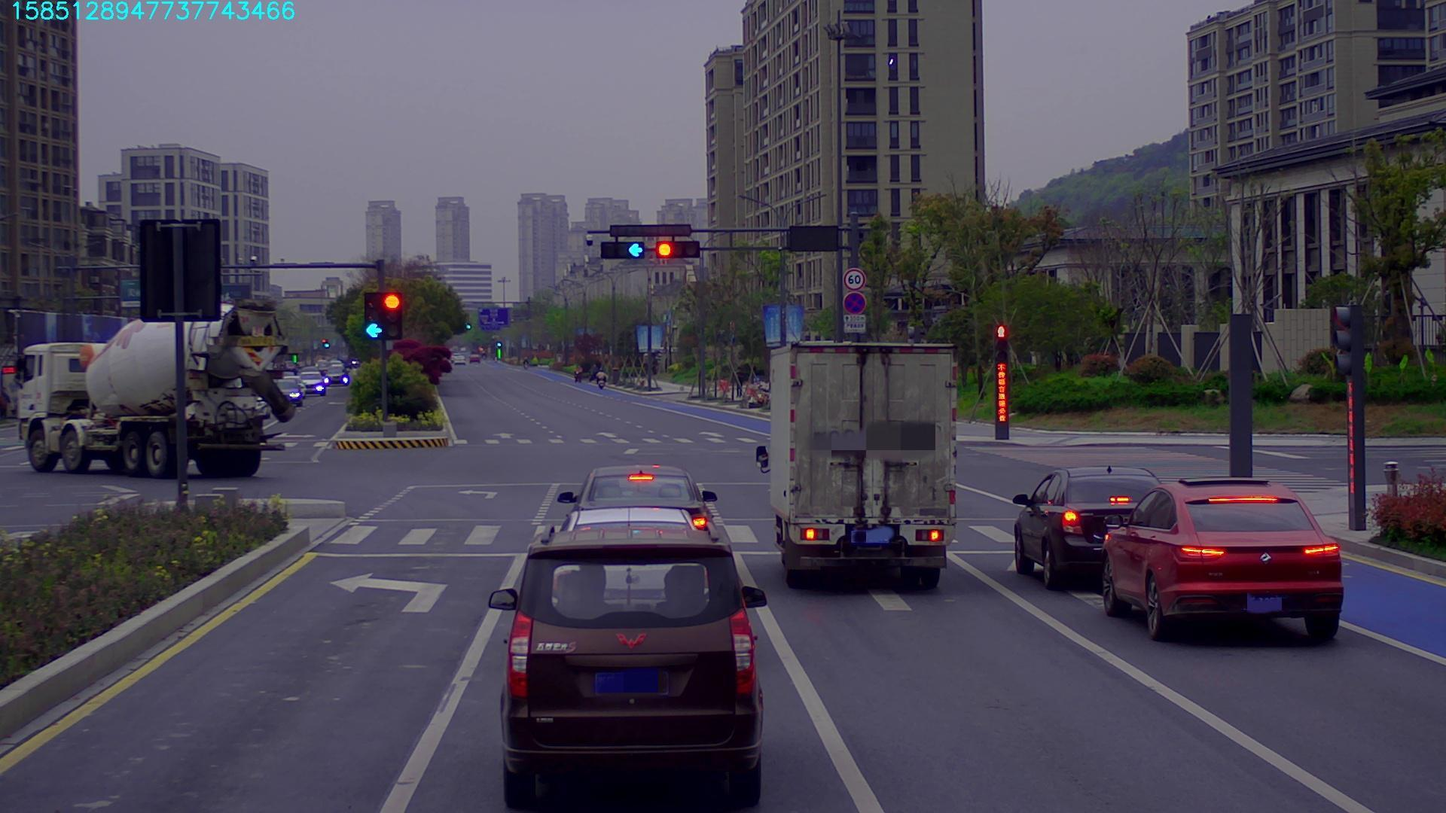green: (596, 239, 649, 262)
red: (653, 242, 697, 261)
